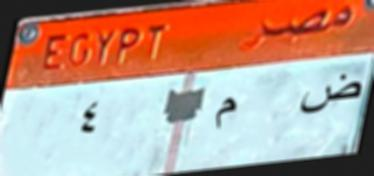4: (76, 98, 104, 142)
daad: (296, 72, 362, 124)
meem: (212, 94, 241, 137)
